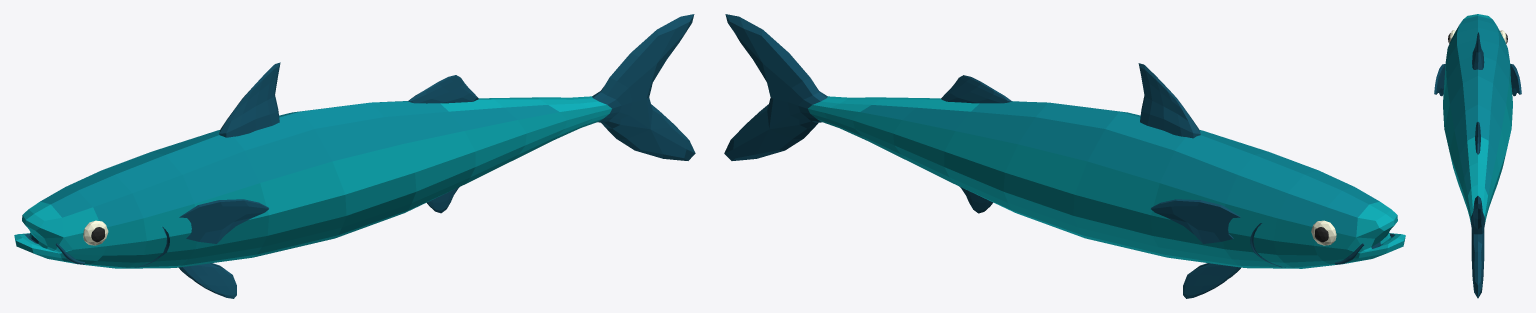
The model's file is qingyu.fbx.
3 renders of one model, left to right at view 1: azimuth 30°, elevation 25°; view 2: azimuth 150°, elevation 25°; view 3: azimuth 270°, elevation 25°, orthographic. The views are drawn at different scales.
Parts seen in each view (by area): view 1: body, wing01, wing03, wing02, wing05; view 2: body, wing01, wing03, wing02, wing05; view 3: body, wing03, wing01, wing02, eyes.
Boxes of the visible parts, x1,y1,x2,y2 form: body: [14, 14, 695, 268]; wing01: [219, 62, 280, 137]; wing03: [179, 199, 268, 243]; wing02: [408, 75, 478, 103]; wing05: [179, 263, 236, 298]; body: [724, 14, 1405, 268]; wing01: [1138, 63, 1200, 138]; wing03: [1151, 199, 1240, 243]; wing02: [941, 75, 1011, 103]; wing05: [1183, 263, 1240, 298]; body: [1443, 14, 1512, 298]; wing03: [1434, 64, 1521, 96]; wing01: [1472, 32, 1484, 69]; wing02: [1475, 122, 1480, 154]; eyes: [1449, 30, 1506, 43].
Size of the model in its own units: 212 by 65.06 by 35.37.
